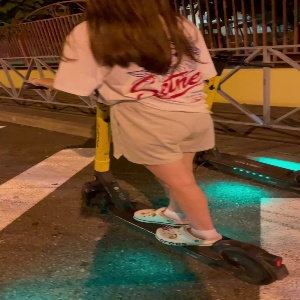human on a scooter: (22, 1, 290, 288)
